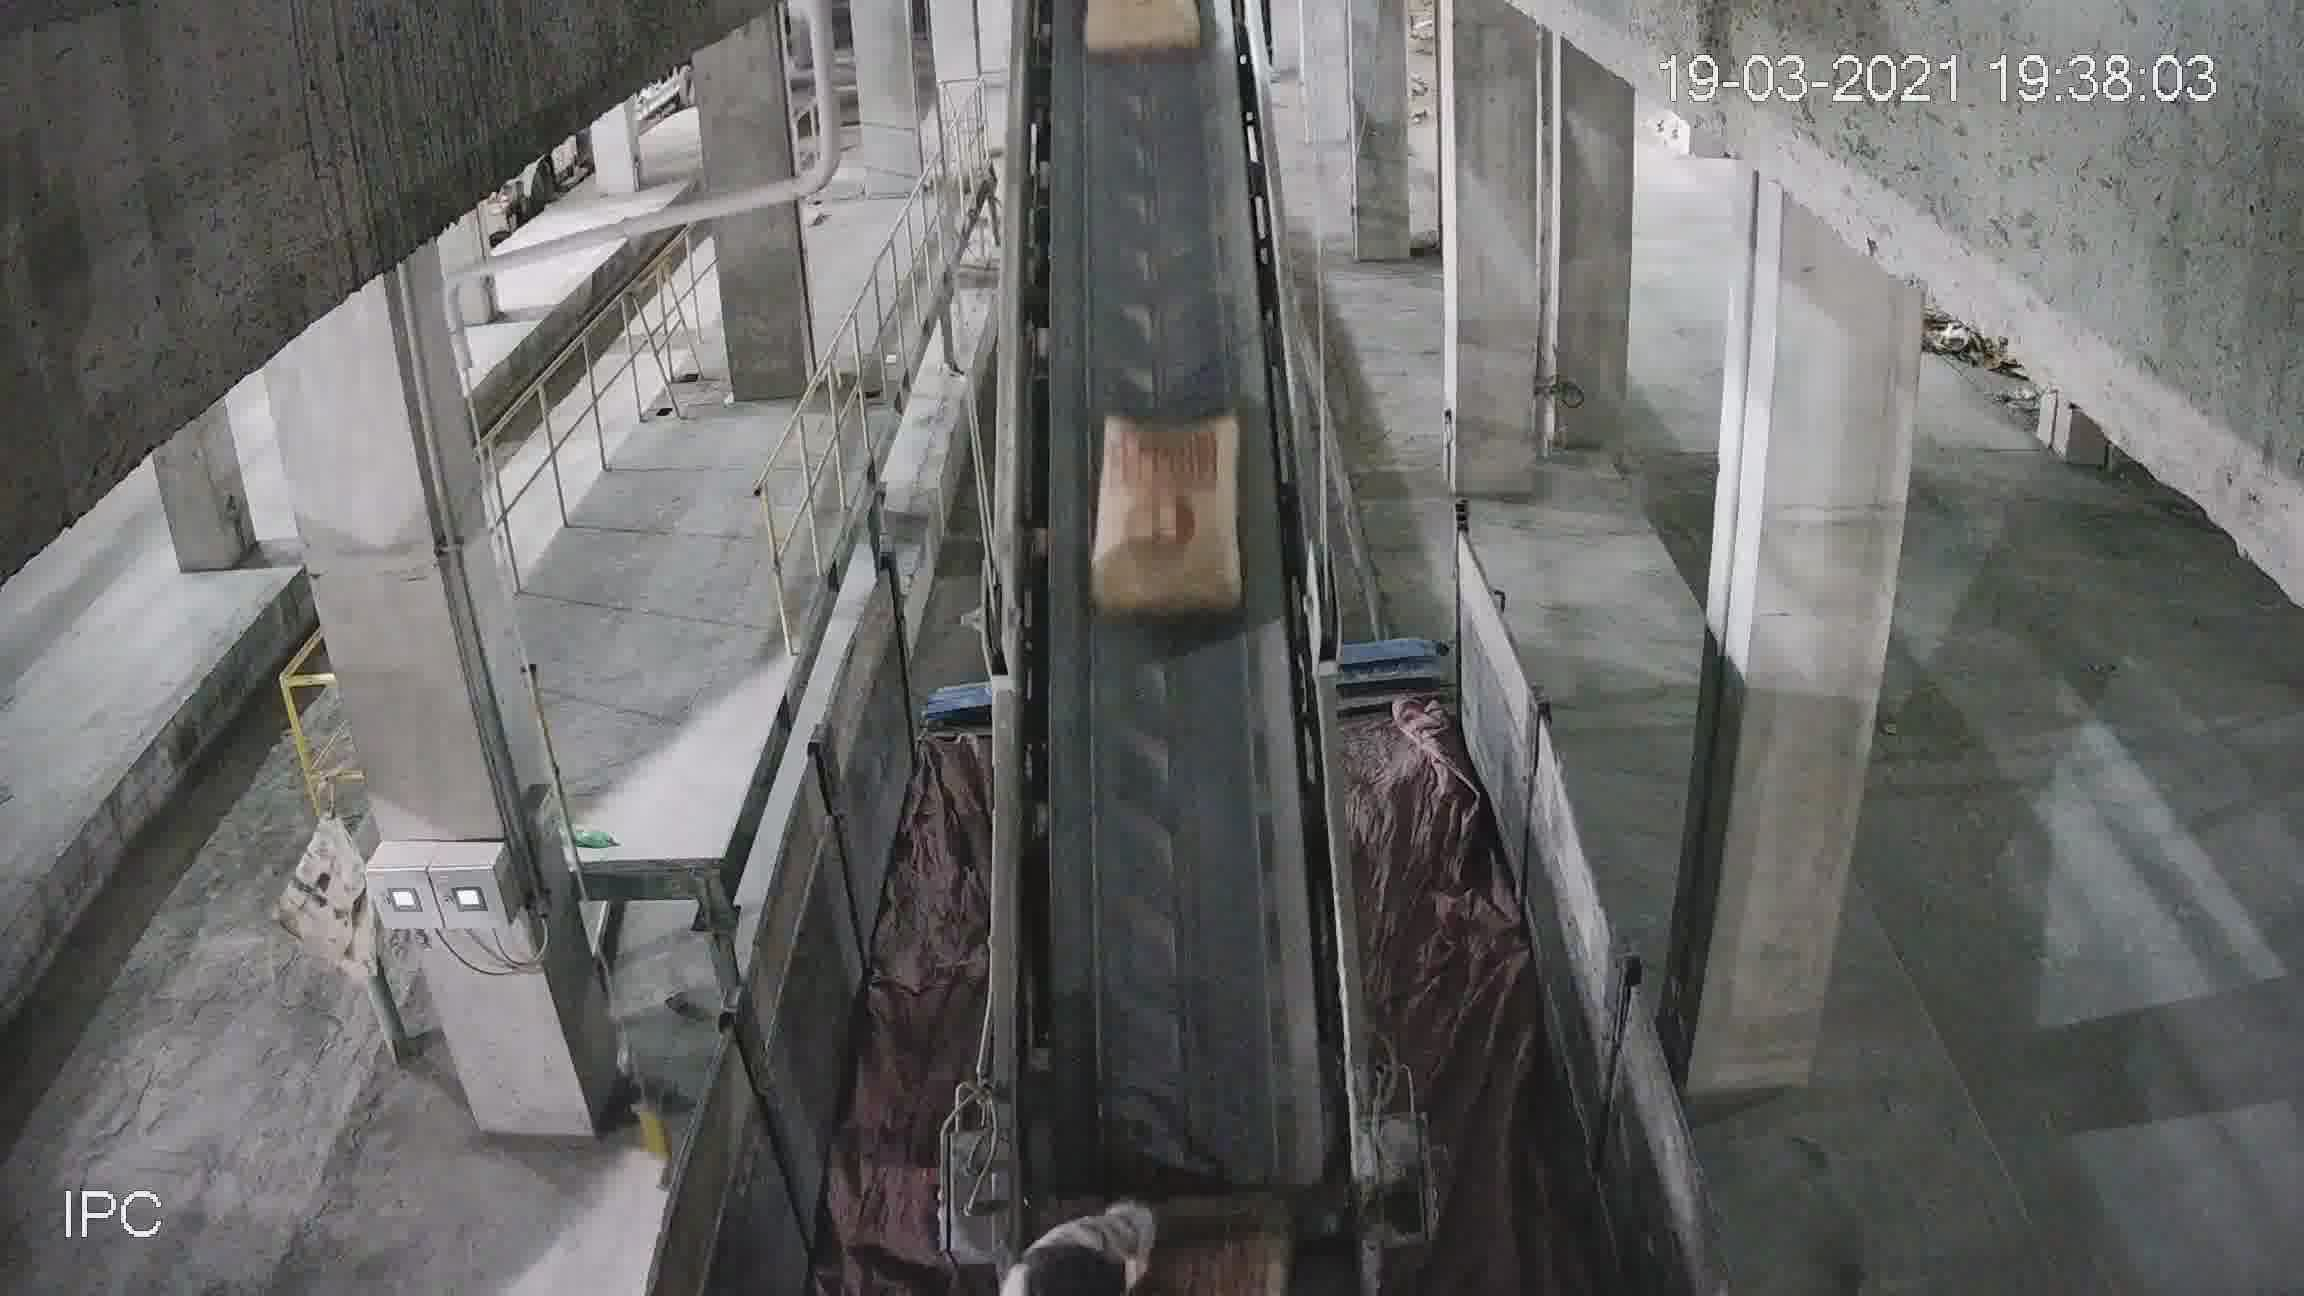bag: (1089, 419, 1237, 616)
belt: (992, 51, 1358, 1100)
